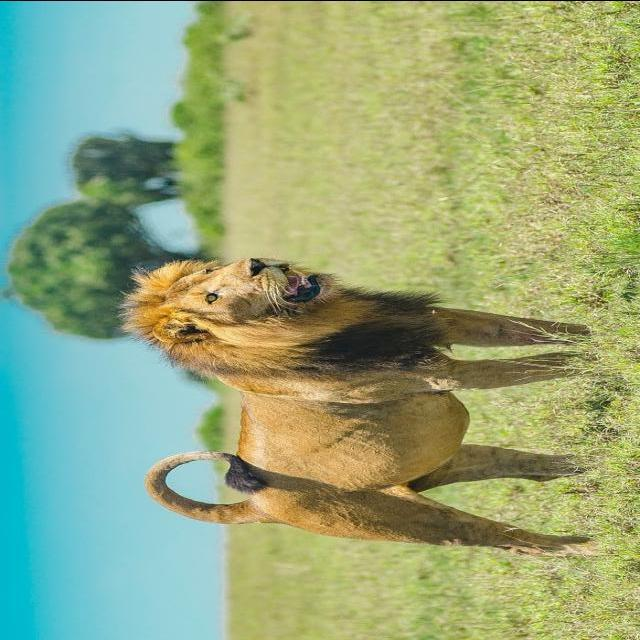lions: (0, 57, 640, 607)
